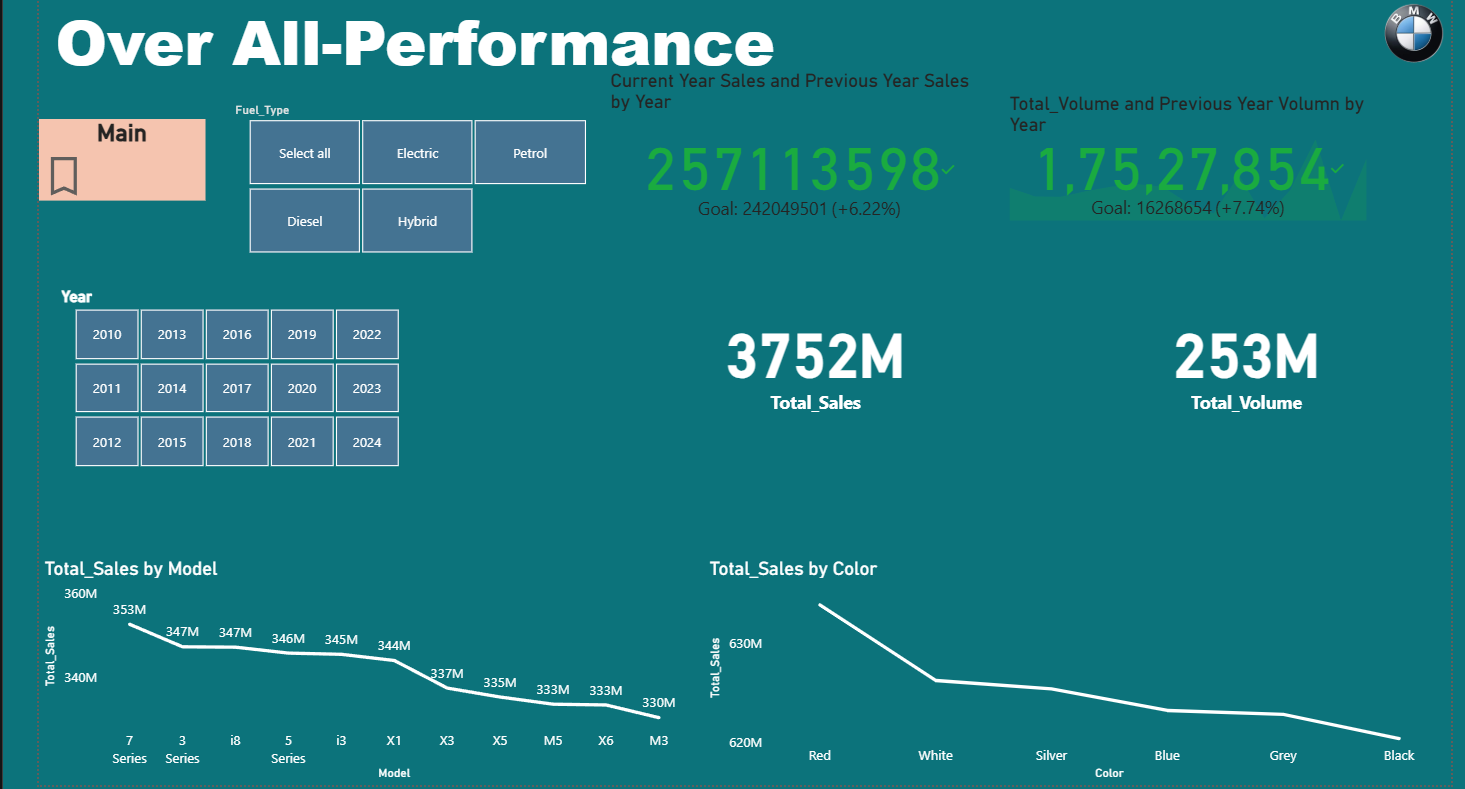

The page's visual inventory and layout, read from the dashboard file:
{"tool":"powerbi","page":{"name":"Overall Perfomance","canvas":[1280,720],"ordinal":3},"visuals":[{"type":"textbox","box":[10,0,680.1,96.1],"z":0},{"type":"image","box":[1052.4,0,227.6,182.3],"z":1000},{"type":"actionButton","title":"Main","box":[0,116.1,150.5,74.4],"z":2000},{"type":"slicer","fields":{"Values":["BMW sales data (2010-2024) (1).Year"]},"box":[7.3,263.9,342.8,174.1],"z":3000},{"type":"card","fields":{"Values":["BMW sales data (2010-2024) (1).Total_Sales"]},"box":[563.1,263.9,282,141.5],"z":4000},{"type":"card","fields":{"Values":["BMW sales data (2010-2024) (1).Quantity"]},"box":[924.9,263.9,340.1,141.5],"z":5000},{"type":"slicer","fields":{"Values":["BMW sales data (2010-2024) (1).Fuel_Type"]},"box":[165,96.1,354.6,147.8],"z":6000},{"type":"lineChart","fields":{"Category":["BMW sales data (2010-2024) (1).Color"],"Y":["BMW sales data (2010-2024) (1).Total_Sales"]},"box":[603,513.2,677.4,206.8],"z":7000},{"type":"lineChart","fields":{"Y":["BMW sales data (2010-2024) (1).Total_Sales"],"Category":["BMW sales data (2010-2024) (1).Model"]},"box":[0,513.2,589.4,206.8],"z":8000},{"type":"kpi","fields":{"Goal":["BMW sales data (2010-2024) (1).Total_Volume_PY"],"Indicator":["BMW sales data (2010-2024) (1).Total_Volume"],"TrendLine":["DateTable.Year"]},"box":[875.1,91.6,333.7,121.5],"z":9000},{"type":"kpi","fields":{"Indicator":["BMW sales data (2010-2024) (1).Current Year Sales"],"Goal":["BMW sales data (2010-2024) (1).Previous Year Sales"],"TrendLine":["DateTable.Year"]},"box":[513.2,70.7,352.7,164.1],"z":10000}]}

Visuals, with their boxes on the page's 1280x720 design canvas (x1, y1, x2, y2). These are canvas units, not pixel positions in the 1465x789 screenshot, which may show the page scaled, cropped or inside an application window:
textbox: box(10, 0, 690, 96)
image: box(1052, 0, 1280, 182)
"Main" actionButton: box(0, 116, 150, 190)
slicer - BMW sales data (2010-2024) (1).Year: box(7, 264, 350, 438)
card - BMW sales data (2010-2024) (1).Total_Sales: box(563, 264, 845, 405)
card - BMW sales data (2010-2024) (1).Quantity: box(925, 264, 1265, 405)
slicer - BMW sales data (2010-2024) (1).Fuel_Type: box(165, 96, 520, 244)
lineChart - BMW sales data (2010-2024) (1).Color x BMW sales data (2010-2024) (1).Total_Sales: box(603, 513, 1280, 720)
lineChart - BMW sales data (2010-2024) (1).Total_Sales x BMW sales data (2010-2024) (1).Model: box(0, 513, 589, 720)
kpi - BMW sales data (2010-2024) (1).Total_Volume_PY x BMW sales data (2010-2024) (1).Total_Volume: box(875, 92, 1209, 213)
kpi - BMW sales data (2010-2024) (1).Current Year Sales x BMW sales data (2010-2024) (1).Previous Year Sales: box(513, 71, 866, 235)
